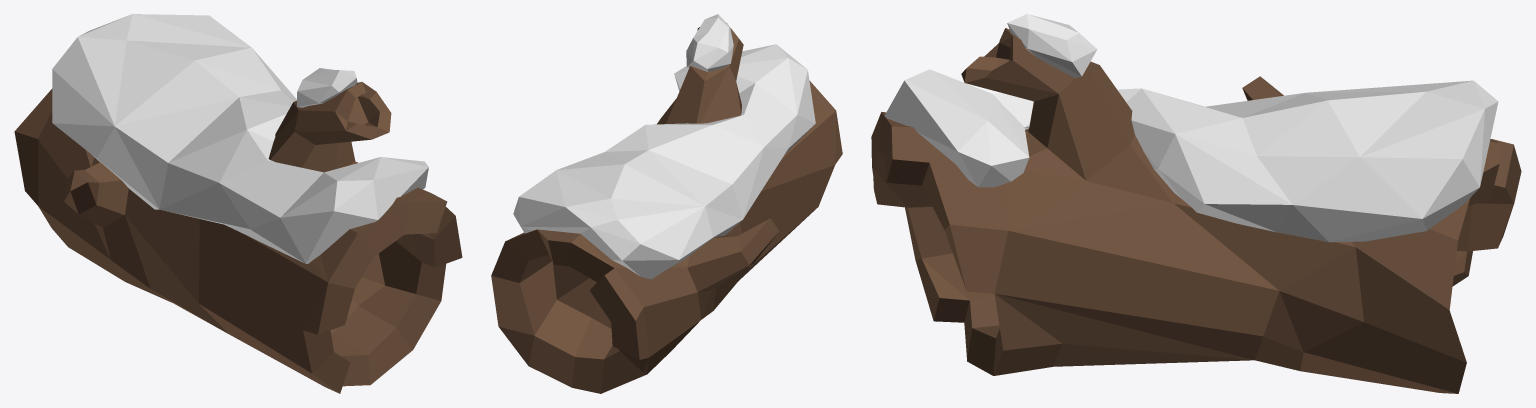
File: Tree_Trunk_Snow.fbx
3 renders of one model, left to right at view 1: azimuth 30°, elevation 25°; view 2: azimuth 150°, elevation 25°; view 3: azimuth 270°, elevation 25°, orthographic. The views are drawn at different scales.
Parts seen in each view (by area): view 1: Tree Trunk Snow; view 2: Tree Trunk Snow; view 3: Tree Trunk Snow.
Boxes of the visible parts, bbox=[...] form: Tree Trunk Snow: bbox=[14, 14, 462, 393]; Tree Trunk Snow: bbox=[491, 14, 842, 393]; Tree Trunk Snow: bbox=[871, 14, 1521, 393].
Bounding box in the file's own units: 53.57 × 61.88 × 96.45.
